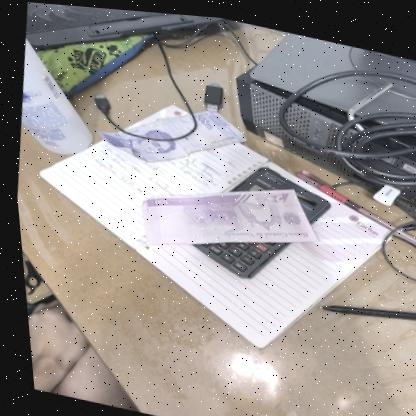one_hundred-back-vef: (128, 151, 325, 277)
